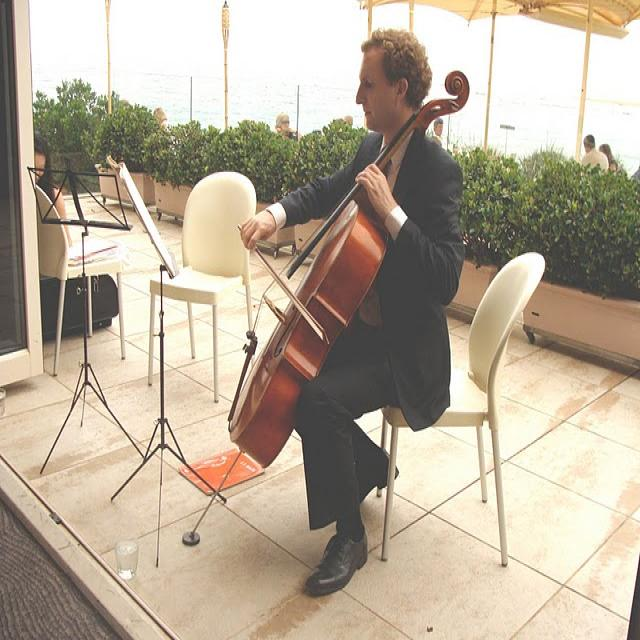cello: (227, 68, 471, 476)
